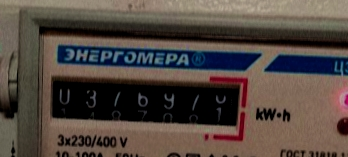0: (57, 82, 71, 105)
1: (213, 104, 225, 124)
3: (85, 87, 99, 108)
6: (136, 84, 151, 107)
7: (110, 84, 125, 109), (188, 88, 203, 112)
9: (162, 87, 176, 109)
screen: (42, 62, 253, 143)
